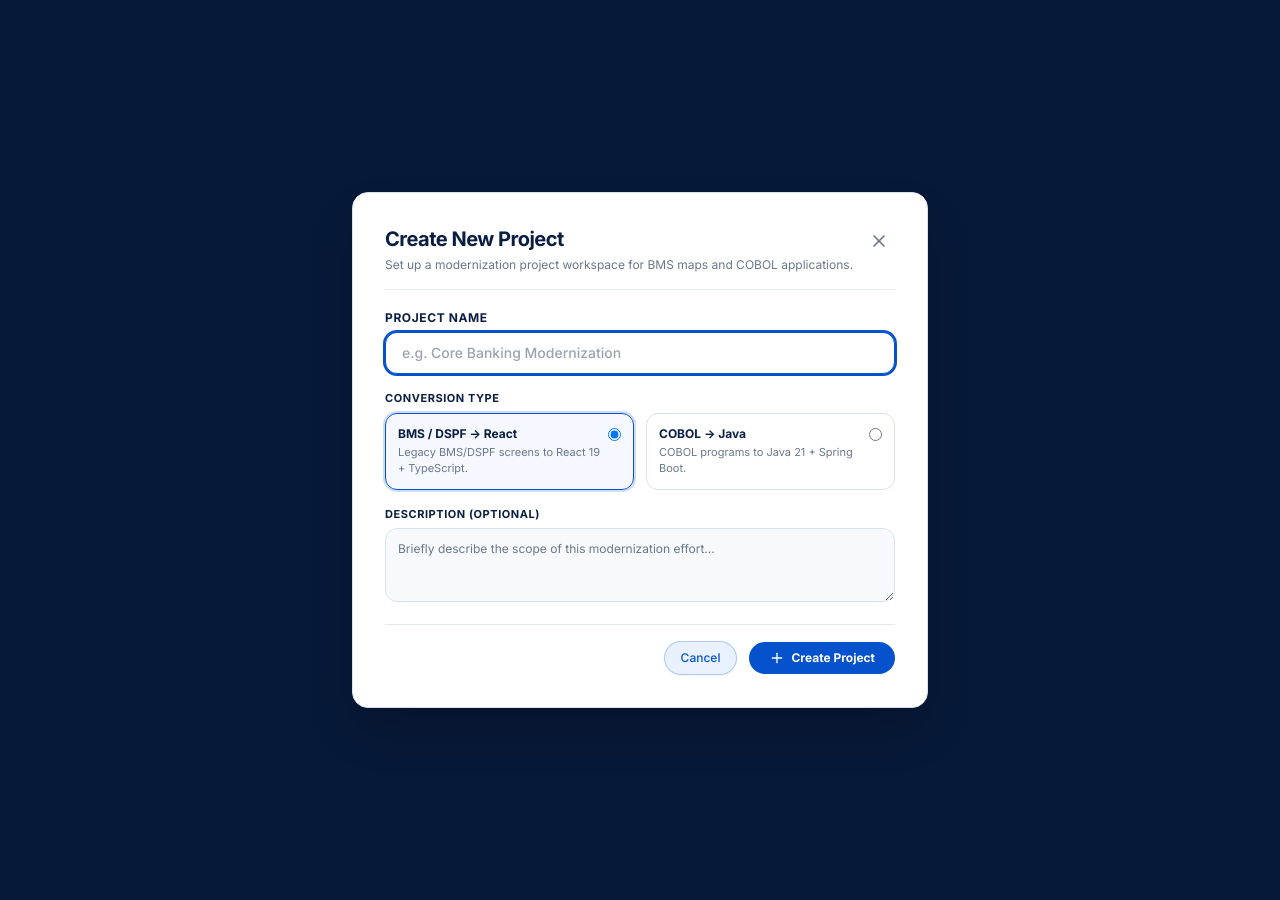
CreateProjectModal - conversion type selection › surfaces client-side validation error when project name is shorter than 2 characters
Type "a" into the field with placeholder "e.g. Core Banking Modernization". click: (640, 353)
box: 385,332 -> 895,374
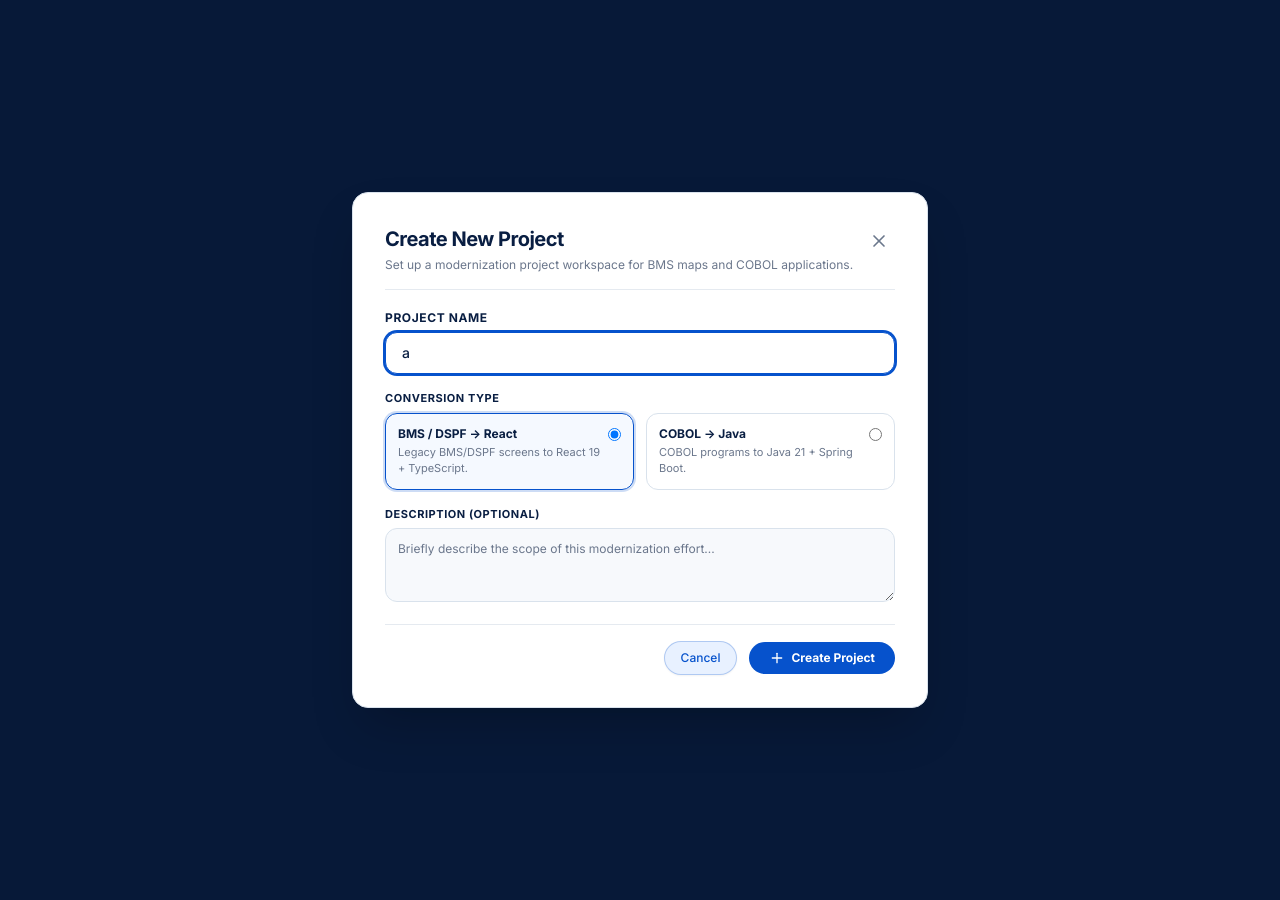
Click the button "Create Project". click: (822, 658)
box: 749,642 -> 895,674
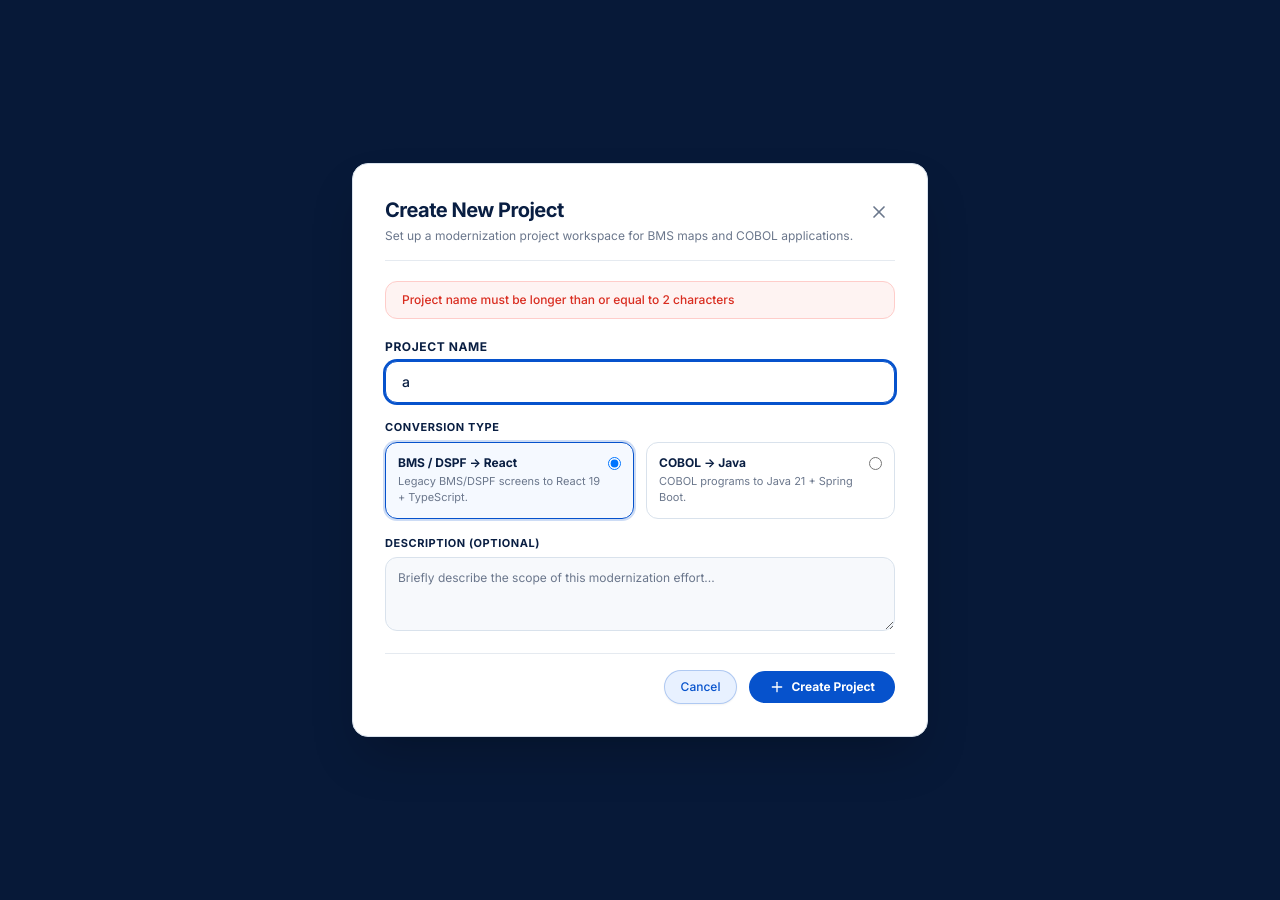
Check: the text "Project name must be longer than or equal to 2 characters" is shown, box 385,281 -> 895,319
